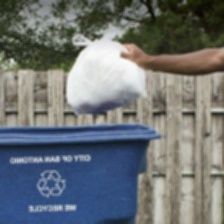plastic_bag: (63, 24, 151, 120)
